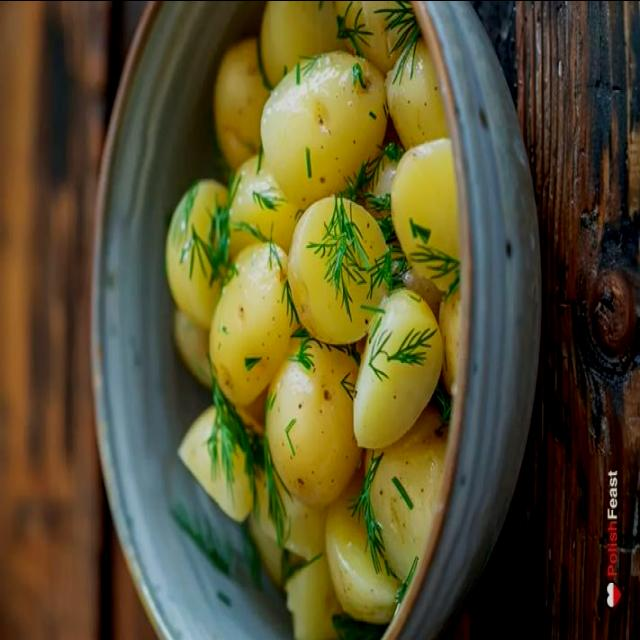kentang rebus: (261, 50, 391, 212), (287, 194, 409, 343), (267, 336, 358, 504), (211, 242, 297, 412)
